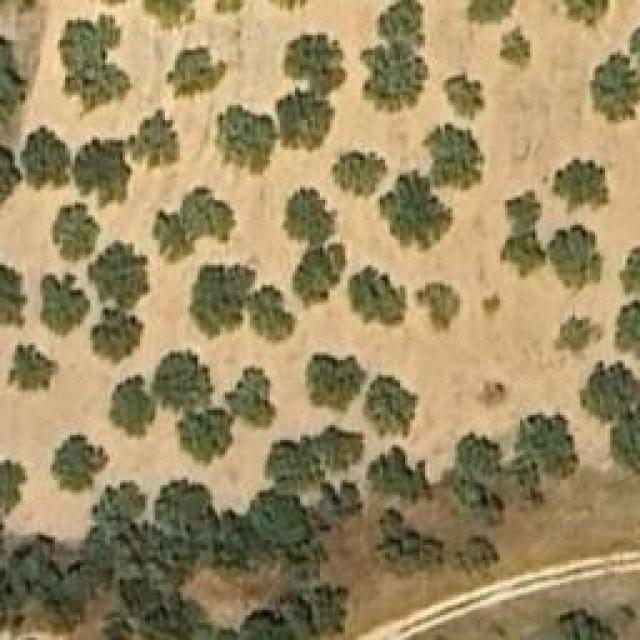Tree: (58, 12, 133, 120), (380, 167, 455, 255), (153, 187, 236, 265), (358, 42, 429, 116), (280, 35, 348, 105), (215, 105, 280, 178), (193, 263, 253, 338), (425, 122, 485, 190), (547, 225, 605, 295), (50, 433, 110, 498), (573, 360, 638, 420), (275, 90, 335, 155), (373, 515, 438, 573), (520, 412, 575, 480), (590, 53, 640, 126), (550, 158, 610, 218), (348, 265, 408, 325), (178, 408, 241, 463), (78, 140, 133, 203), (365, 373, 418, 438), (160, 348, 213, 411), (90, 305, 145, 365), (93, 243, 148, 303), (307, 353, 365, 408), (250, 490, 308, 545), (20, 128, 70, 191), (367, 448, 425, 501), (42, 273, 90, 336), (290, 243, 340, 303), (265, 443, 320, 496), (167, 48, 225, 98), (230, 365, 278, 425), (250, 285, 295, 345), (0, 30, 28, 125), (50, 203, 100, 256), (285, 188, 333, 243), (550, 315, 605, 360), (110, 375, 155, 430), (333, 150, 386, 195), (315, 480, 360, 533), (415, 282, 463, 330), (443, 70, 486, 123), (460, 433, 503, 486), (8, 343, 53, 393), (498, 228, 543, 278), (98, 483, 143, 533), (130, 118, 178, 163), (160, 483, 208, 526), (557, 607, 617, 640), (310, 585, 348, 635), (375, 0, 422, 40), (0, 263, 28, 328), (318, 428, 361, 468), (613, 415, 640, 475), (143, 0, 196, 30), (455, 535, 493, 575), (615, 300, 640, 360), (562, 0, 610, 30), (500, 190, 543, 223), (0, 139, 22, 202), (467, 0, 515, 28), (0, 460, 28, 505), (243, 612, 288, 640), (500, 28, 530, 68), (475, 380, 513, 410), (98, 608, 133, 638), (620, 245, 640, 293), (482, 295, 500, 325), (215, 0, 245, 15)
